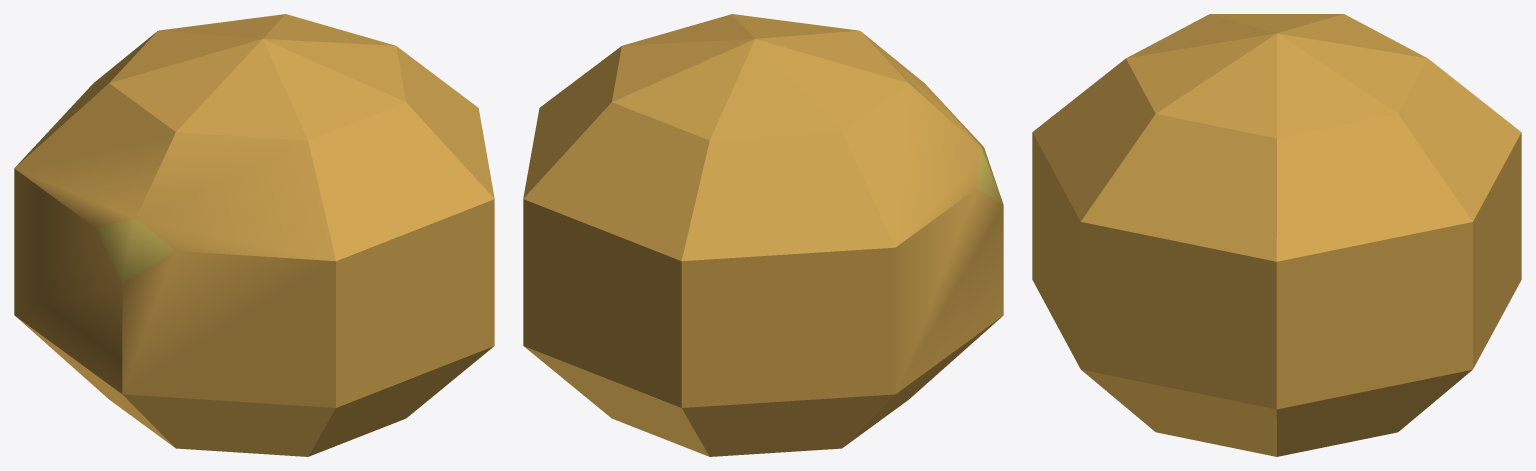
The picture shows the model from 3 angles, left to right: view 1: azimuth 30°, elevation 25°; view 2: azimuth 150°, elevation 25°; view 3: azimuth 270°, elevation 25°; orthographic projection.
Parts seen in each view (by area): view 1: Sphere_3; view 2: Sphere_3; view 3: Sphere_3.
Part boxes in pixels (x1,y1,x2,y2): Sphere_3: (14, 14, 494, 456); Sphere_3: (523, 14, 1003, 456); Sphere_3: (1032, 14, 1521, 456).
Bounding box in the file's own units: 0.6962 × 0.5768 × 0.714.
1 material, 1 textured.
